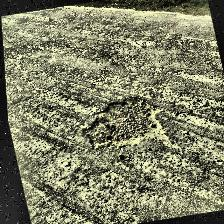pothole: (74, 90, 170, 156)
